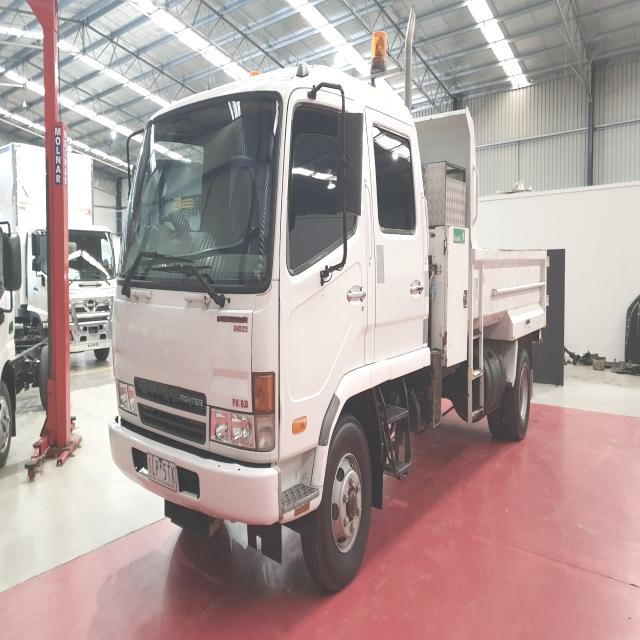truck: (109, 62, 556, 587), (1, 141, 119, 372)
